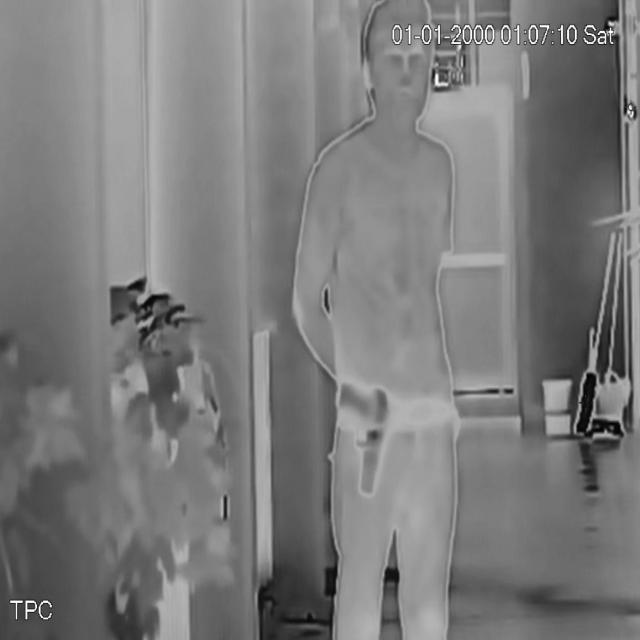Weapon: (333, 378, 401, 512)
